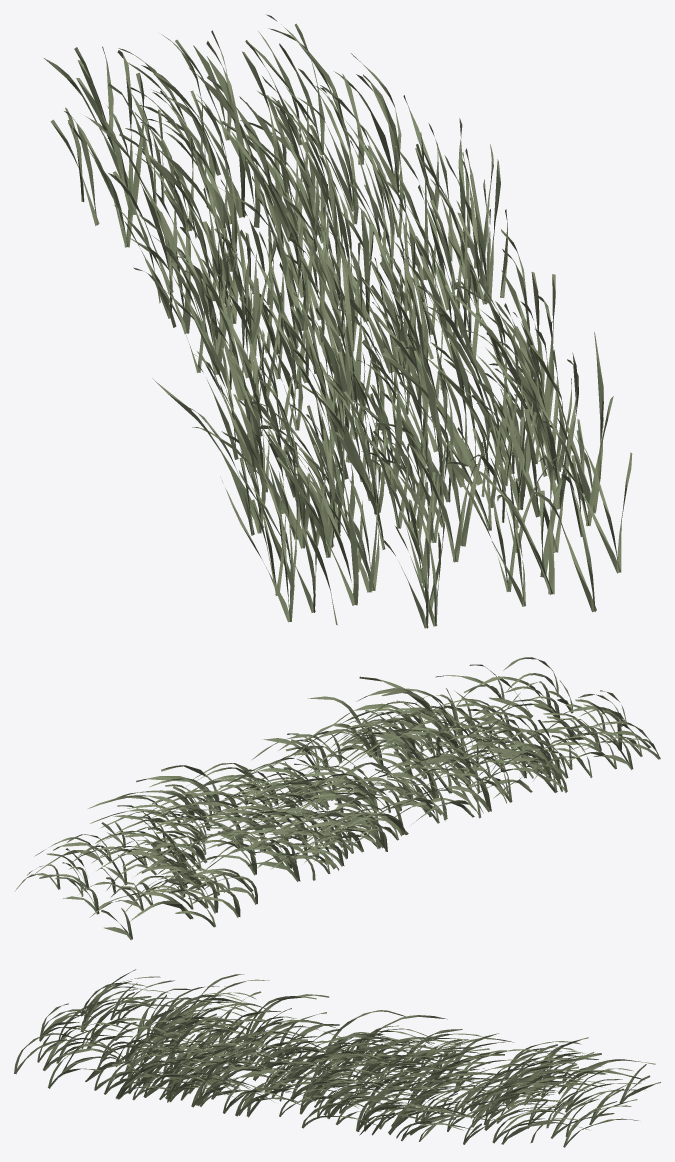
Rendered from GrassWindWide.fbx.
The picture shows the model from 3 angles, top to bottom: view 1: azimuth 30°, elevation 25°; view 2: azimuth 150°, elevation 25°; view 3: azimuth 270°, elevation 25°; orthographic projection. The views are drawn at different scales.
Parts seen in each view (by area): view 1: grassWindWide1Main; view 2: grassWindWide1Main; view 3: grassWindWide1Main.
Boxes of the visible parts, left/top/right/bottom form: grassWindWide1Main: left=44, top=14, right=632, bottom=628; grassWindWide1Main: left=15, top=657, right=660, bottom=940; grassWindWide1Main: left=14, top=969, right=660, bottom=1147.
Size of the model in its own units: 3.7 by 0.8265 by 7.03.
